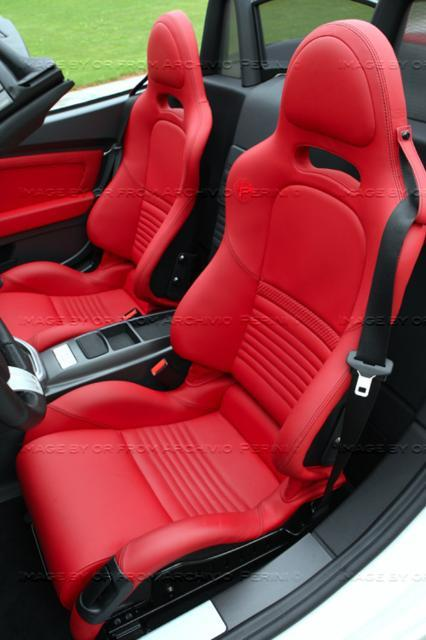Seatbelt: (312, 190, 420, 532)
